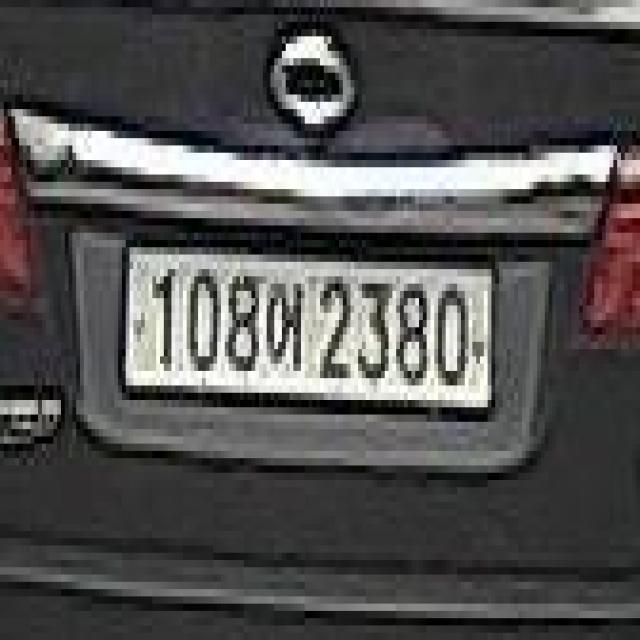illegal_plate: (120, 228, 502, 436)
